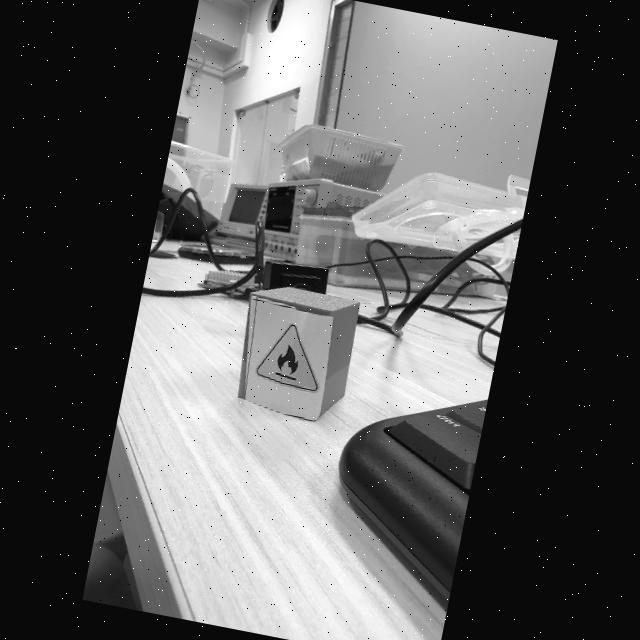Fire: (256, 325, 318, 391)
